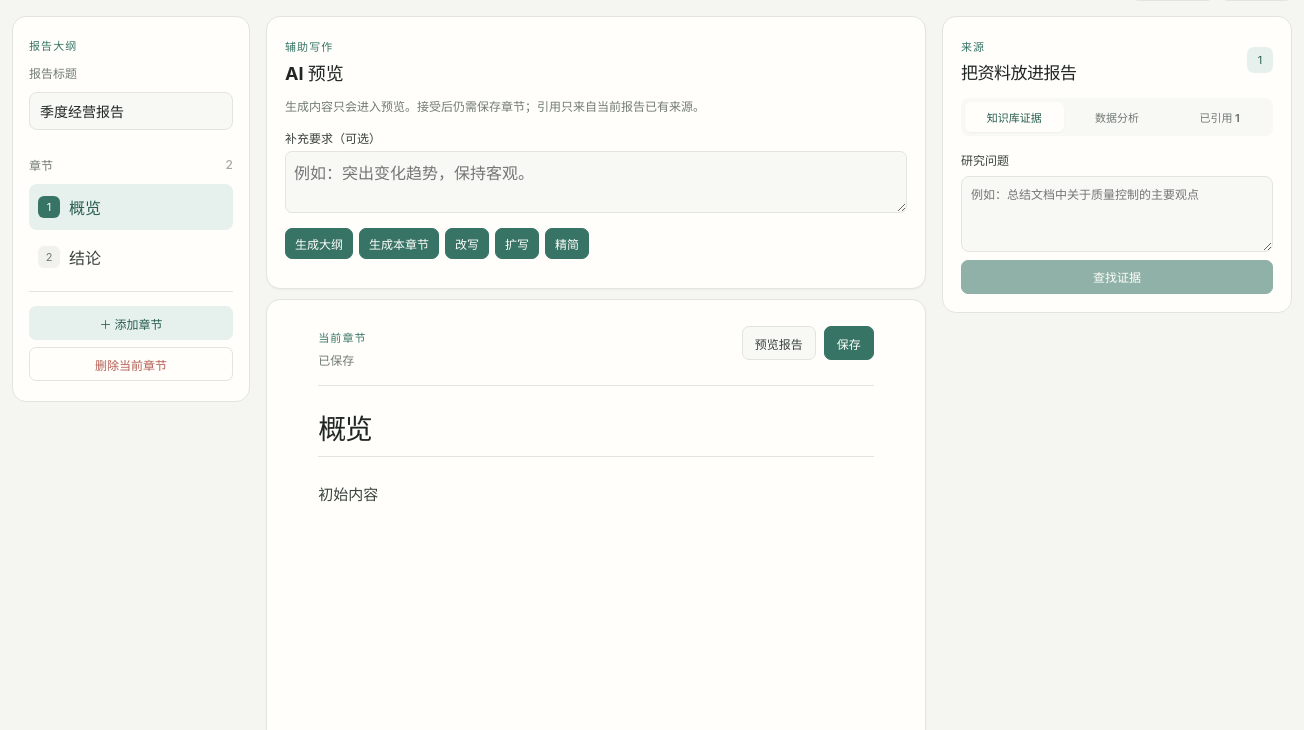
Scenario: ReportWorkspaceView › previews an AI section draft and keeps it local until the user saves
Click the button "生成本章节": (399, 244) [359,228,439,259]
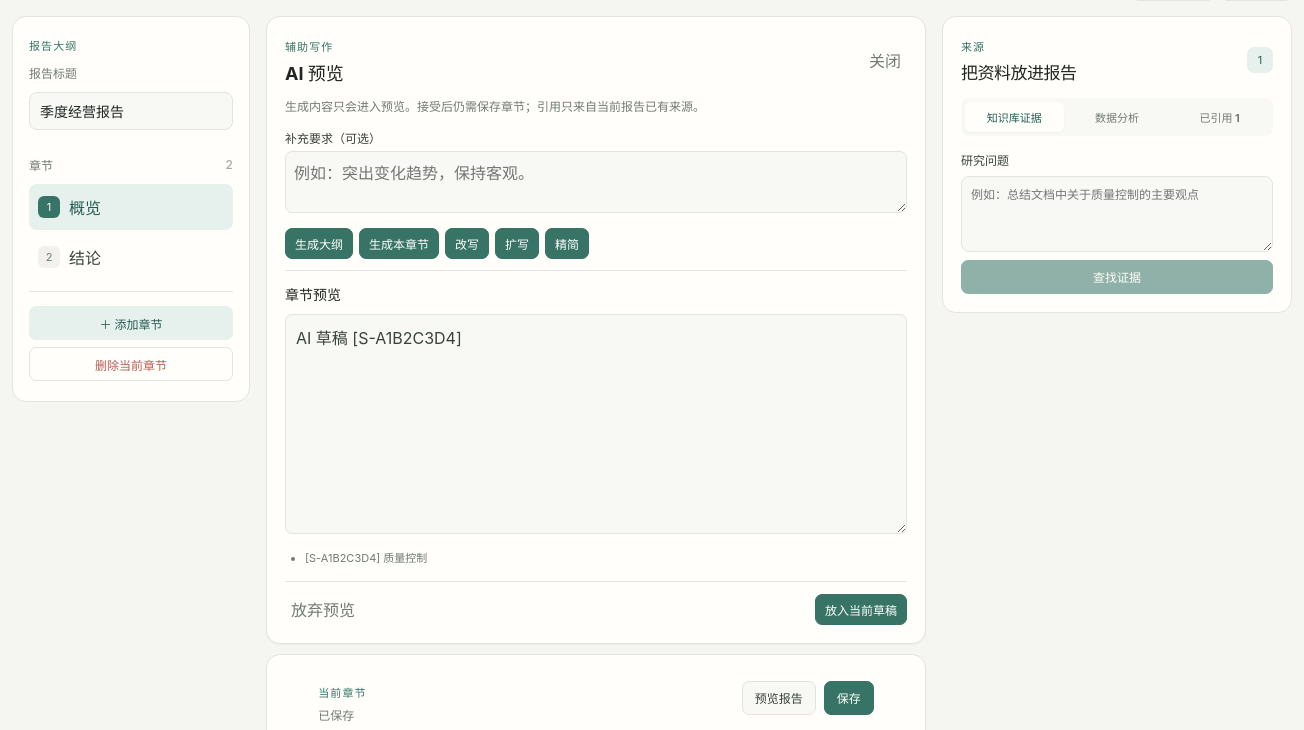
Expected: the text "章节预览" is shown, [285,286,341,303]
Click the button with class "report-ai-panel__accept": (861, 610) [815,594,907,625]
(page scrolled)
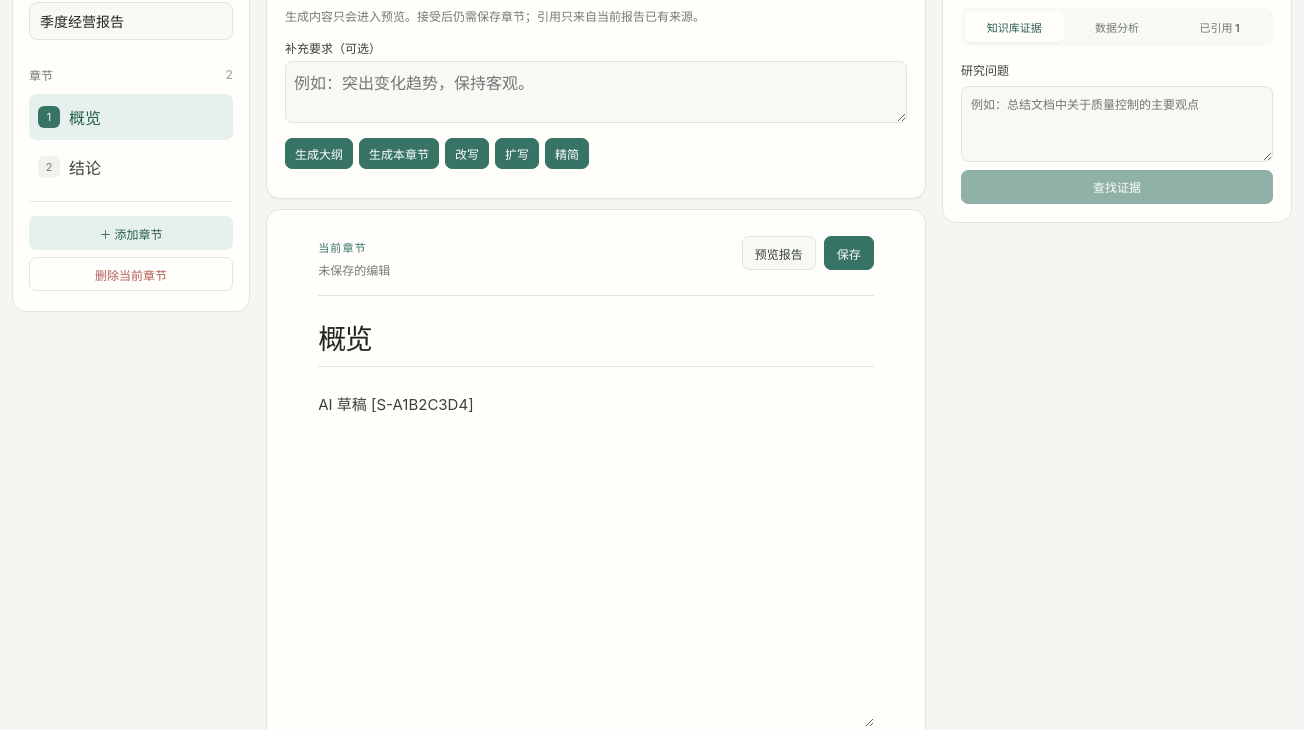
Expected: the text box with class "report-editor__textarea" holds "AI 草稿 [S-A1B2C3D4]", [318,367,874,727]
